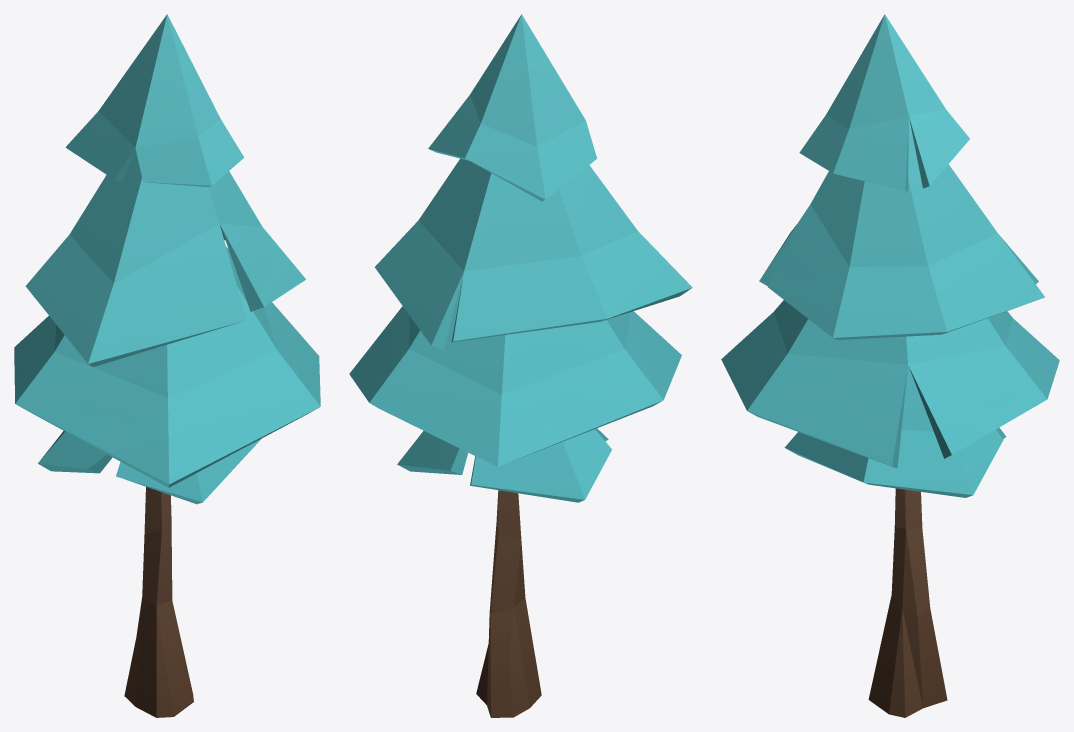
File: tree_pine_blue.fbx
3 renders of one model, left to right at view 1: azimuth 30°, elevation 25°; view 2: azimuth 150°, elevation 25°; view 3: azimuth 270°, elevation 25°, orthographic. The views are drawn at different scales.
Visible parts, largest first — view 1: tree_pine_blue; view 2: tree_pine_blue; view 3: tree_pine_blue.
Part boxes in pixels (bbox=[...]): tree_pine_blue: bbox=[14, 14, 320, 717]; tree_pine_blue: bbox=[349, 14, 692, 717]; tree_pine_blue: bbox=[721, 14, 1059, 717].
Size of the model in its own units: 5.47 by 11.97 by 5.35.
Materials: 1 (1 with a texture image).
